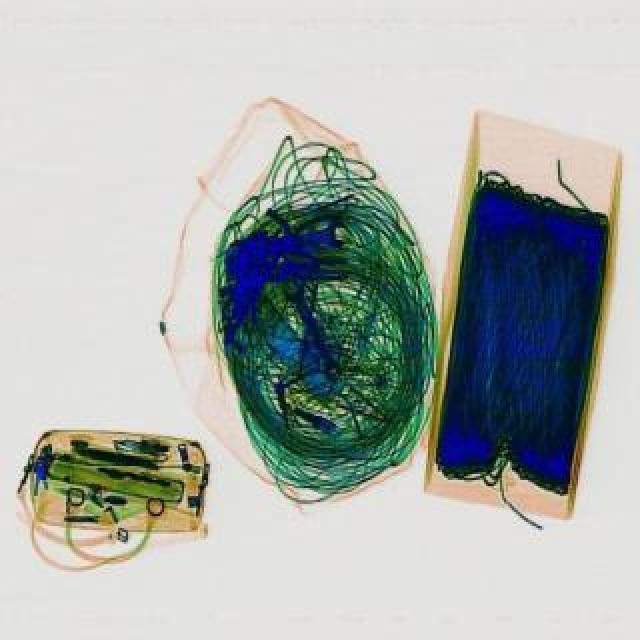scissors: (278, 278, 350, 382), (282, 218, 348, 254)
